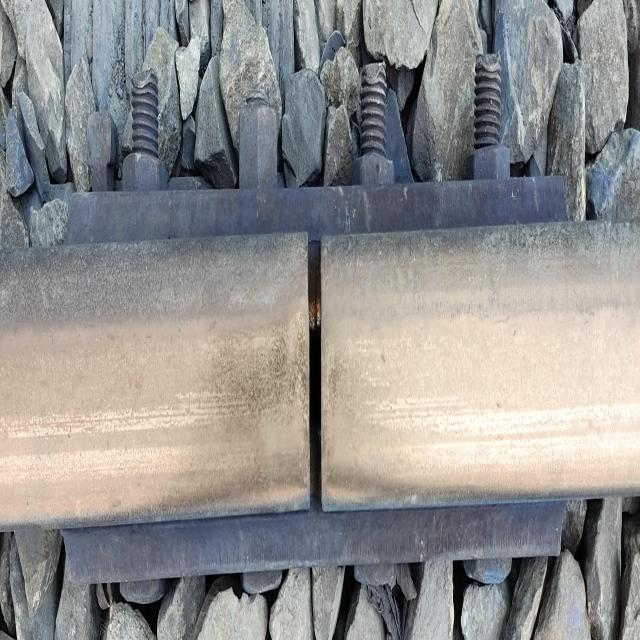Good Joint: (62, 35, 571, 605)
